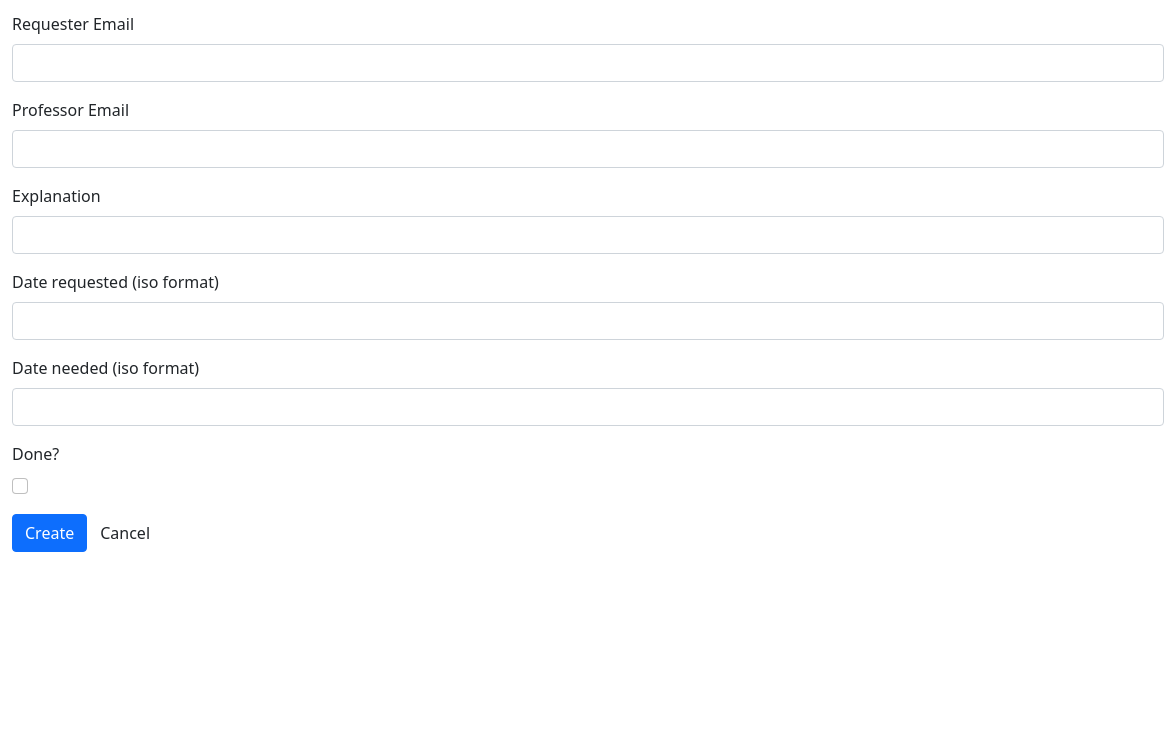
Test: RecommendationForm tests › Correct Error messsages when dates are wrong format
The image size is (1176, 732).
Step 1. Type "a" into the field with test id "RecommendationForm-dateRequested" → (588, 321), box [12, 302, 1164, 340]
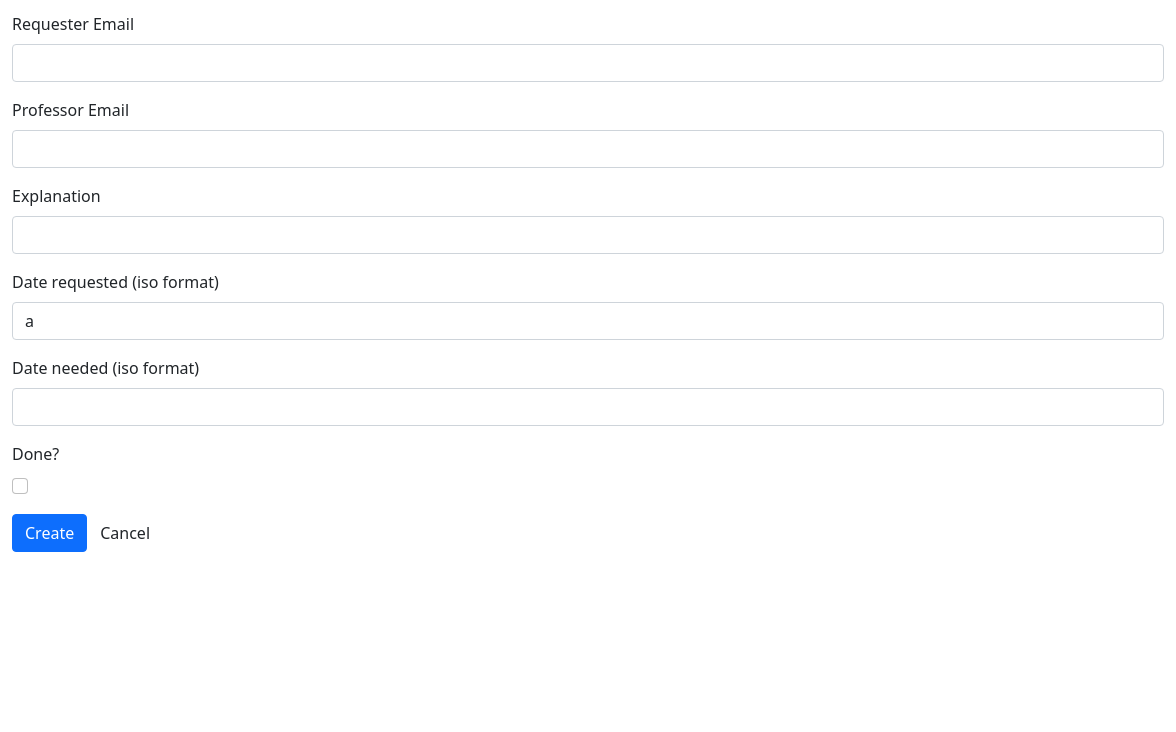
Step 2. Type "b" into the field with test id "RecommendationForm-dateNeeded" → (588, 407), box [12, 388, 1164, 426]
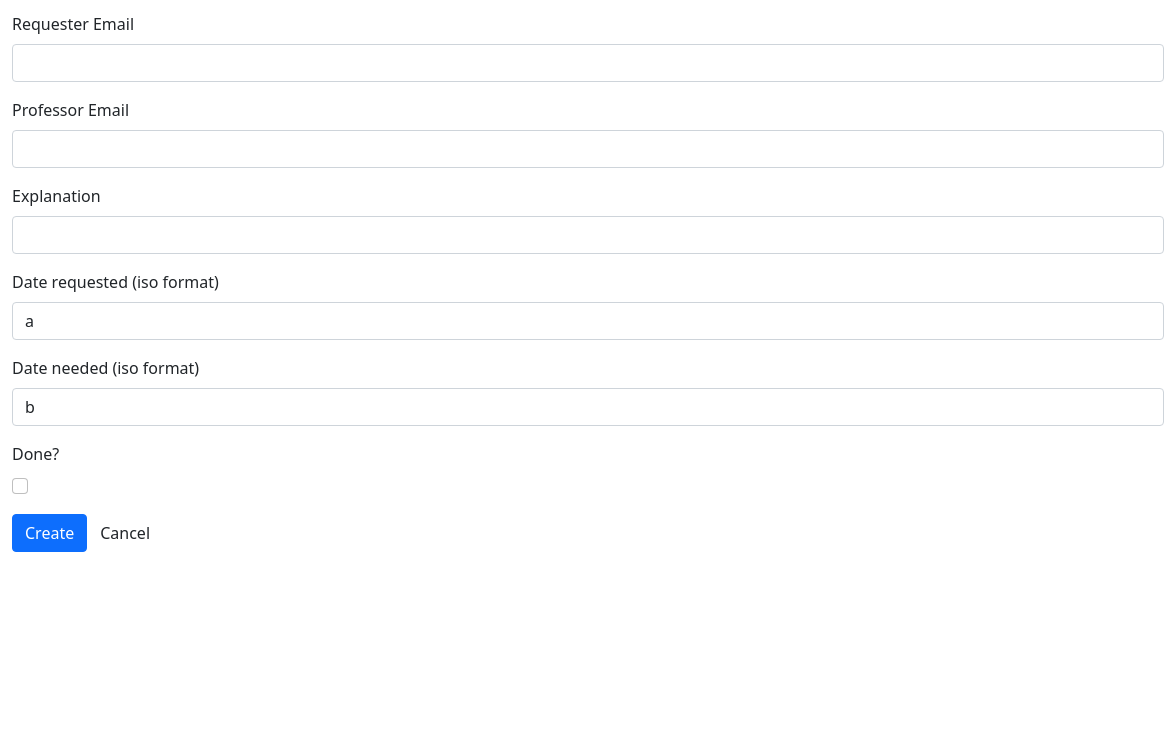
Step 3. Click the button with test id "RecommendationForm-submit" → (50, 533), box [12, 514, 87, 552]
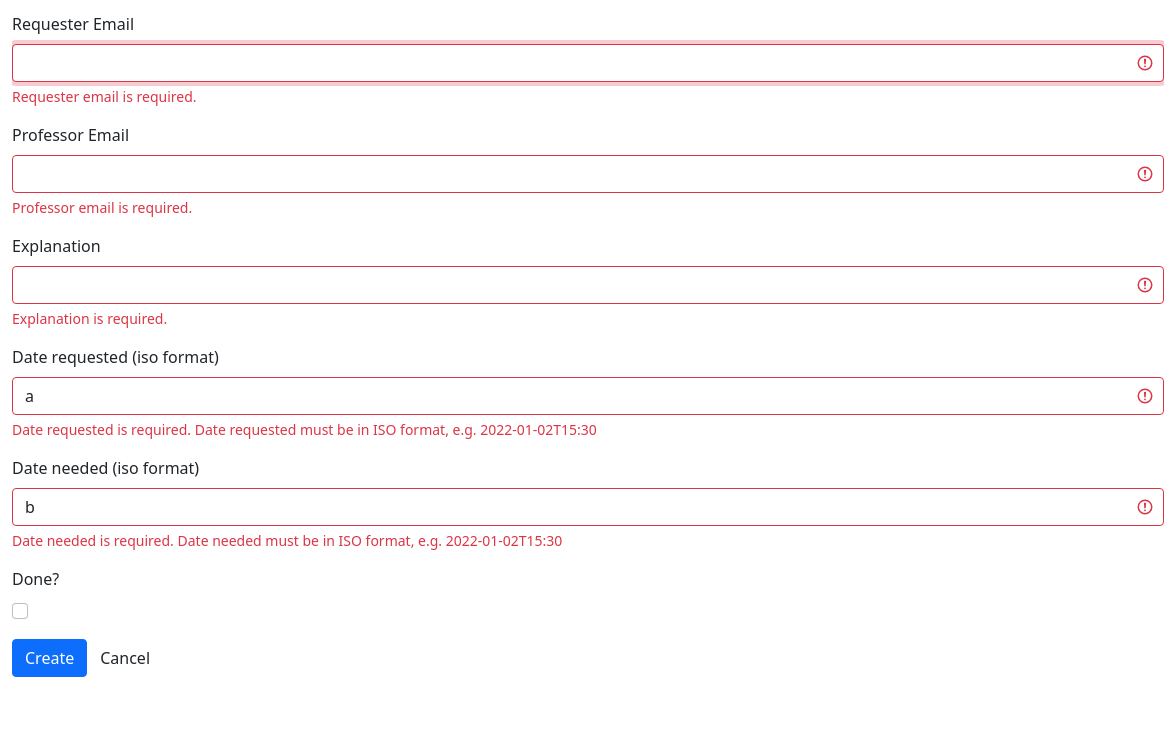
Now the text "Date requested must be in ISO format, e.g. 2022-01-02T15:30" is shown, box [195, 420, 597, 439]
Now the text "Date needed must be in ISO format, e.g. 2022-01-02T15:30" is shown, box [178, 531, 562, 550]
